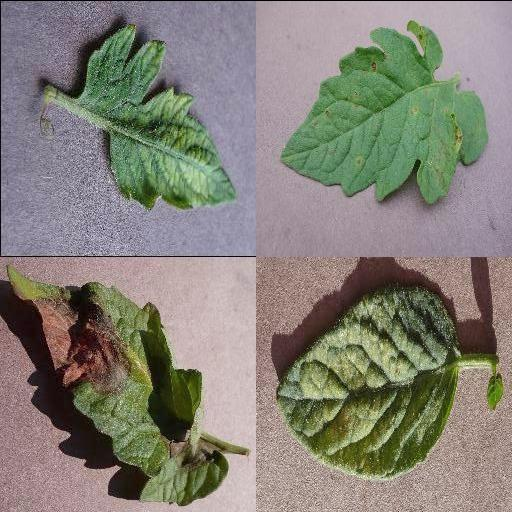Late Blight: (8, 264, 230, 506)
Mosaic Virus: (81, 25, 241, 211)
Septoria: (280, 19, 490, 203)
Spider Mites: (275, 281, 463, 477)
